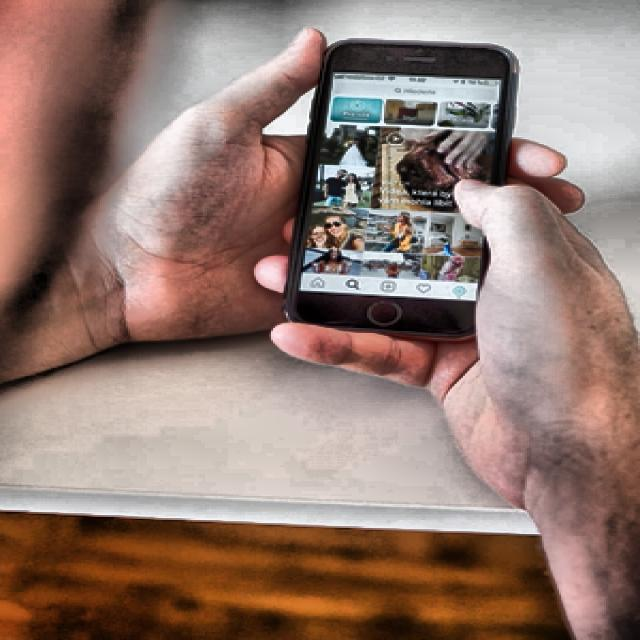Phone: (280, 38, 521, 344)
